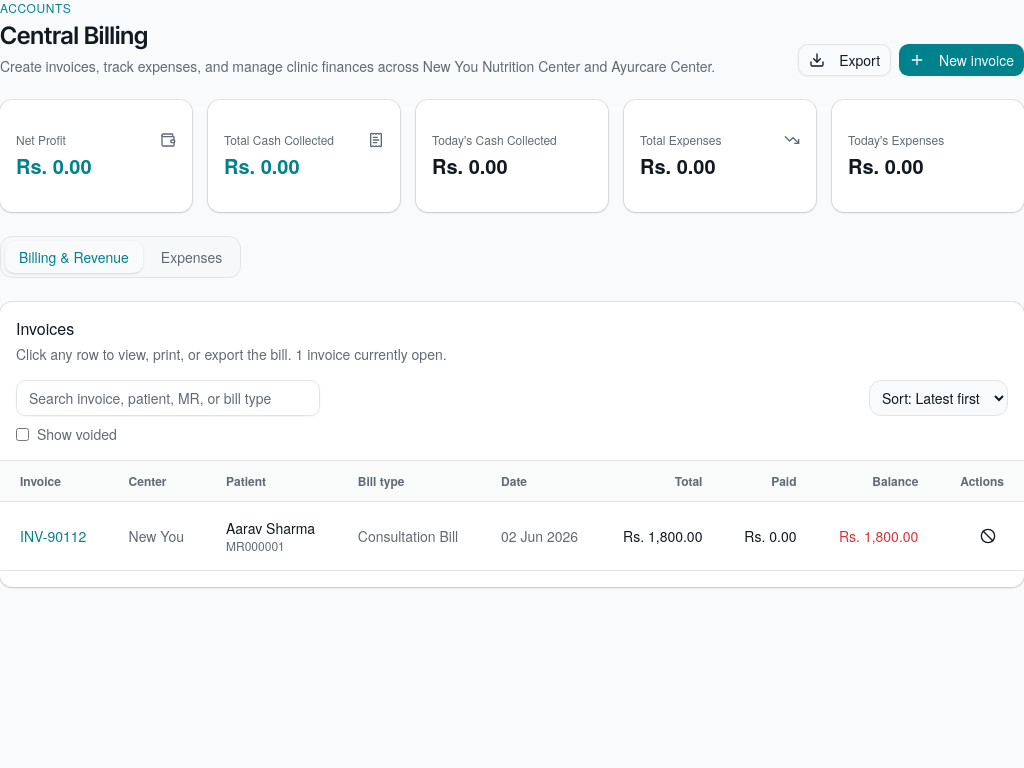
it: BillingWorkspace › opens invoice preview modal when clicking row
This screenshot has width=1024, height=768.
Expected: the text "Aarav Sharma" is shown, [226,518,318,538]
Click the text "Aarav Sharma".
click(512, 536)  # box [0,502,1023,570]
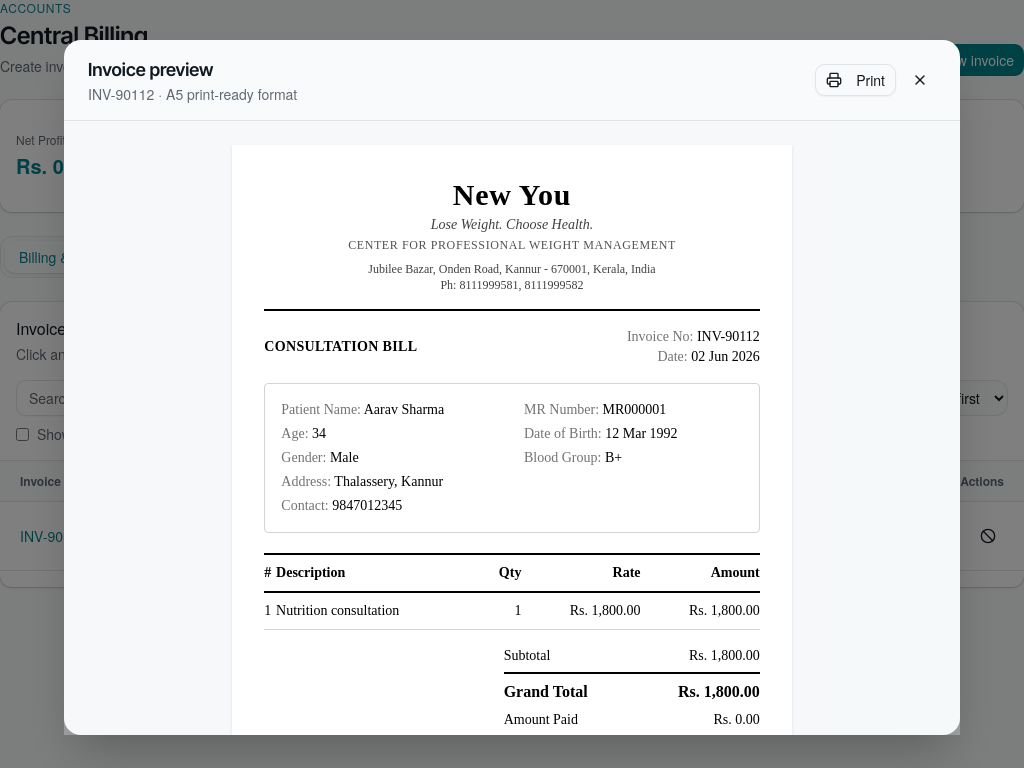
Expected: the heading "Invoice preview" is shown, [88,59,213,80]
Expected: the text "INV-90112 · A5 print-ready format" is shown, [88,84,297,104]
